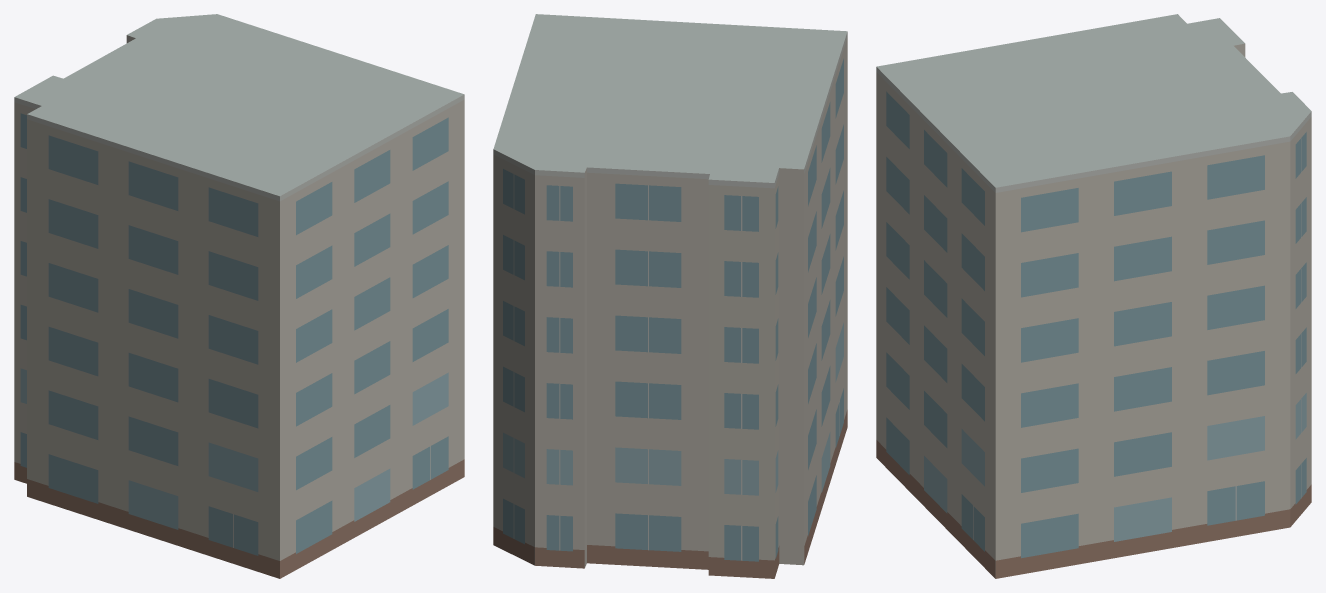
File: survey-upis-33024246.glb
3 renders of one model, left to right at view 1: azimuth 30°, elevation 25°; view 2: azimuth 150°, elevation 25°; view 3: azimuth 270°, elevation 25°, orthographic. The views are drawn at different scales.
Visible parts, largest first — view 1: survey-upis-33024246.tmp; view 2: survey-upis-33024246.tmp; view 3: survey-upis-33024246.tmp.
Boxes of the visible parts, <box> form: survey-upis-33024246.tmp: <box>14,14,464,578</box>; survey-upis-33024246.tmp: <box>493,14,847,578</box>; survey-upis-33024246.tmp: <box>876,14,1311,578</box>.
Bounding box in the file's own units: 17.45 × 18.3 × 18.47.
